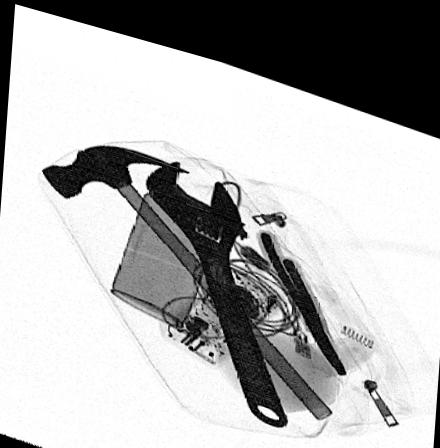Hammer: (39, 137, 334, 403)
Pliers: (253, 214, 352, 357)
Wrench: (145, 150, 288, 410)
